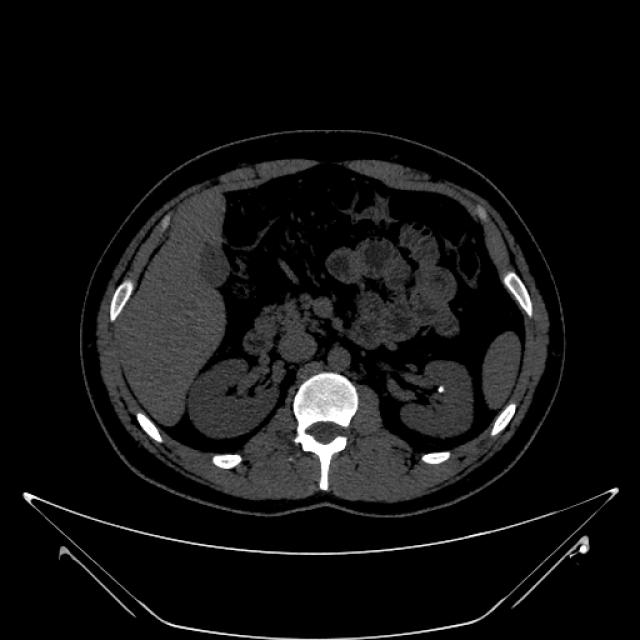kidney: (388, 367, 478, 436), (200, 368, 272, 439)
stone: (433, 384, 452, 398)
